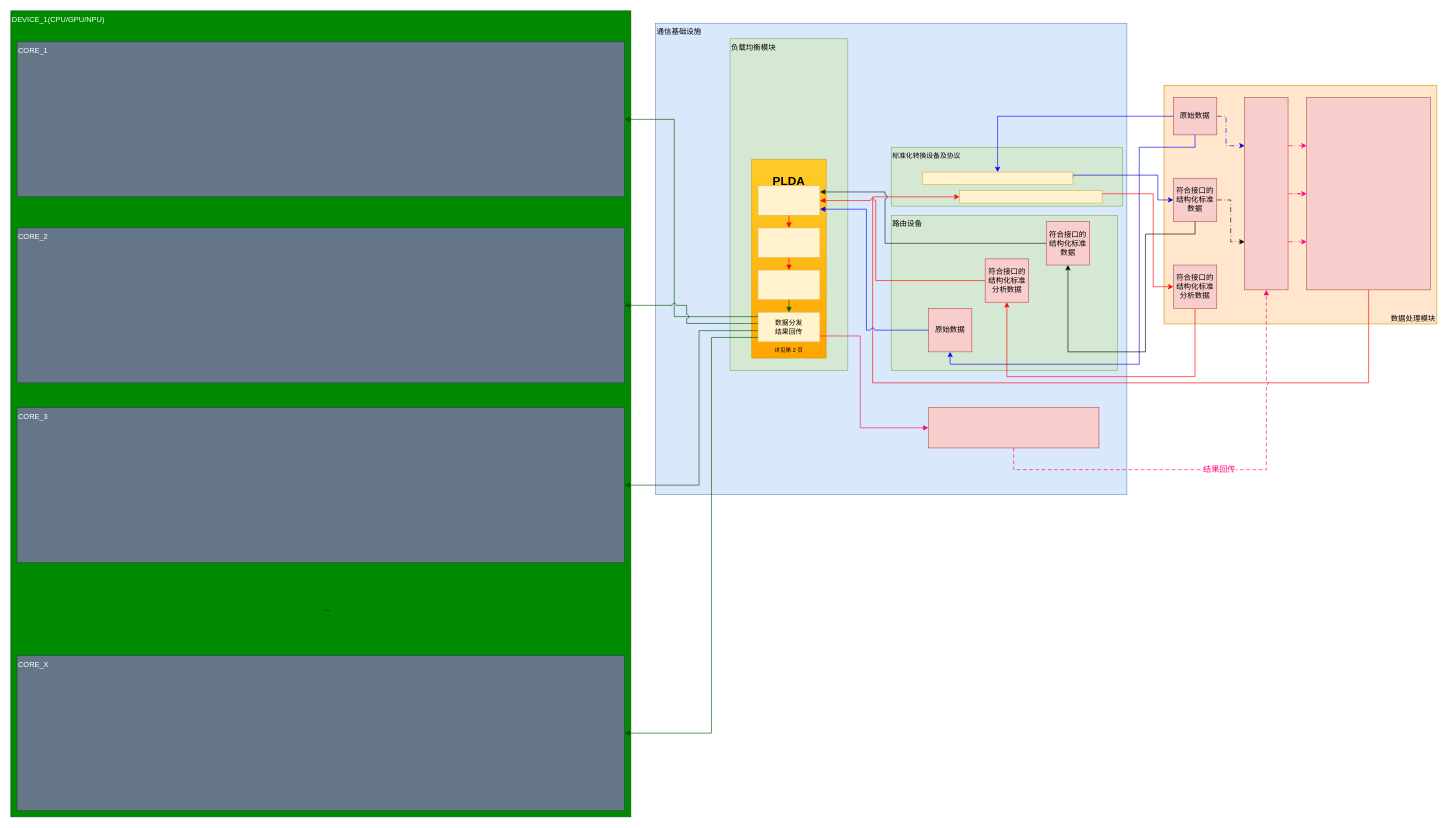
Some shapes in this 1448 by 828 pixel diagram are drawn without their labels. Each missing label, with the centre of its shape:
"任务计划 资源分配" goes at (x=788, y=284).
"分析标准化子块" goes at (x=1030, y=196).
"原始数据标准化子块" goes at (x=997, y=177).
"已提交的执行结果 返回路由 / 快速数据通道" goes at (x=1013, y=427).
"并行分析 ILP · TLP · SIMD" goes at (x=788, y=242).
"快速数据通道" goes at (x=1266, y=193).
"数据统计及分析模型" goes at (x=1368, y=193).
"输入接口 标准化 / 校验" goes at (x=788, y=200).
